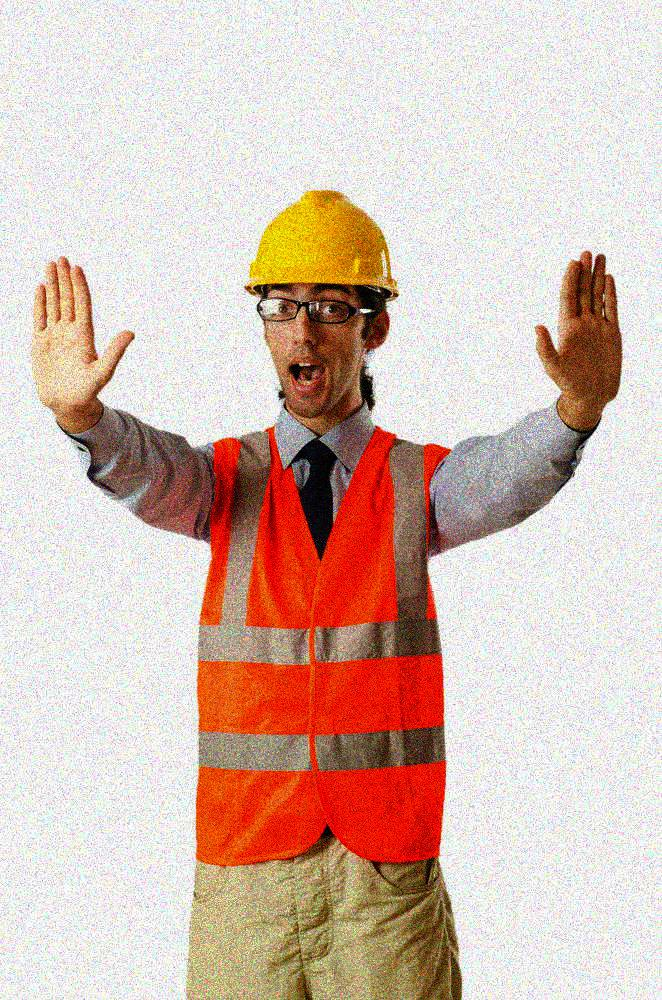helmet: (243, 192, 396, 424)
